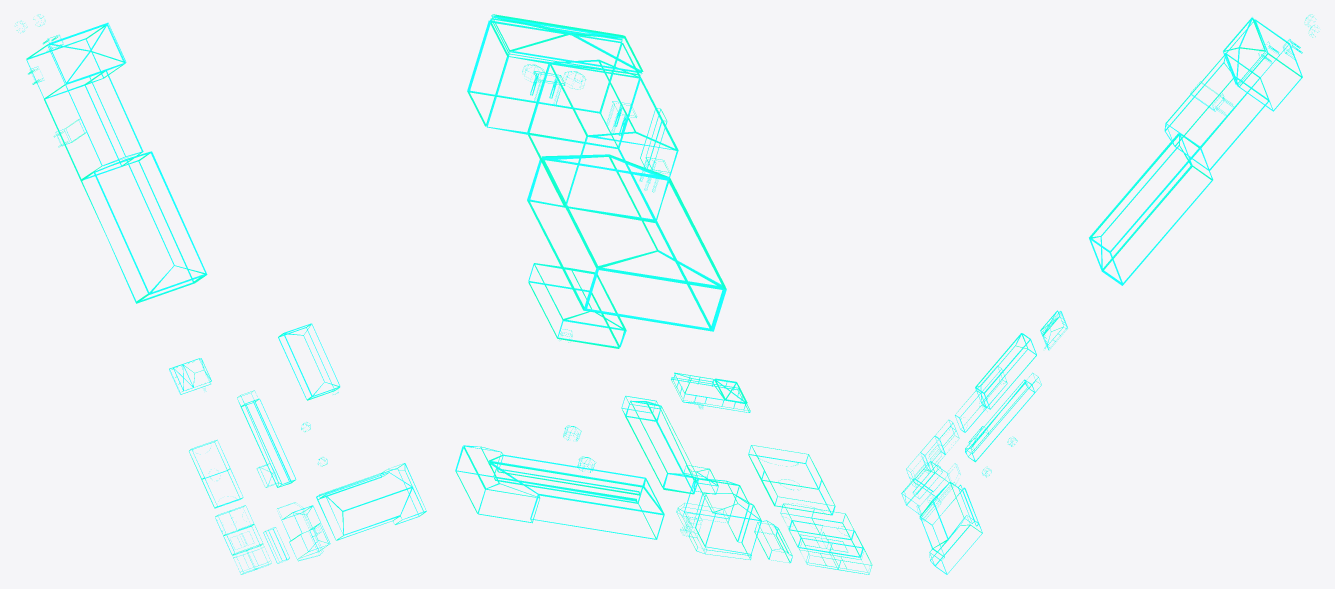
3 renders of one model, left to right at view 1: azimuth 30°, elevation 25°; view 2: azimuth 150°, elevation 25°; view 3: azimuth 270°, elevation 25°, orthographic. The views are drawn at different scales.
Visible parts, largest first — view 1: others, blockB; view 2: others, blockB; view 3: others, blockB.
Boxes of the visible parts, x1,y1,x2,y2 form: others: (15,14,426,574); blockB: (278,323,340,400); others: (455,14,872,574); blockB: (528,263,626,348); others: (901,14,1319,574); blockB: (975,333,1036,411).
Size of the model in its own units: 4.79 by 8.2 by 6.97.
